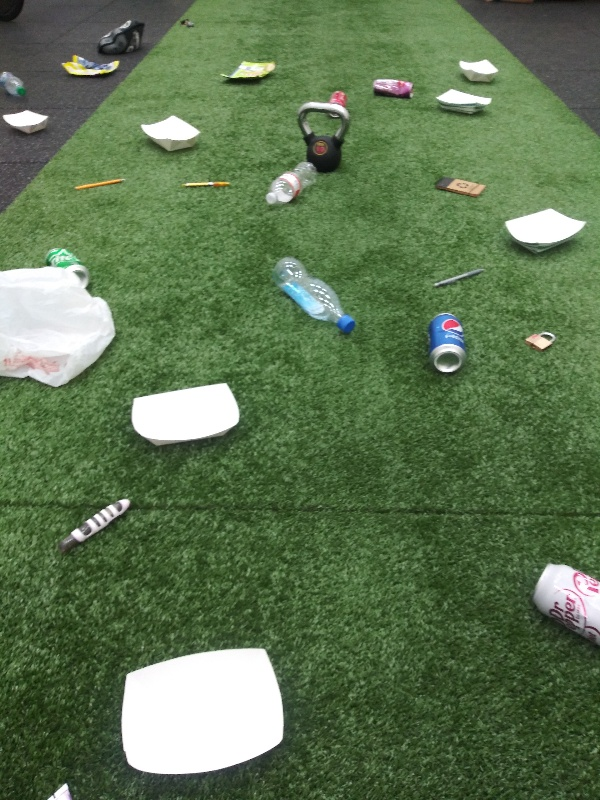bag: (57, 50, 125, 80), (214, 57, 277, 87)
bottle: (267, 254, 358, 339), (262, 159, 322, 210), (1, 69, 30, 101)
can: (532, 558, 600, 651), (424, 309, 471, 375), (39, 246, 92, 290), (369, 74, 416, 101), (320, 87, 351, 120)
plate: (114, 643, 295, 782), (127, 378, 243, 450), (497, 208, 590, 257), (135, 111, 204, 155), (431, 87, 493, 119), (3, 108, 55, 137), (457, 54, 502, 86)
